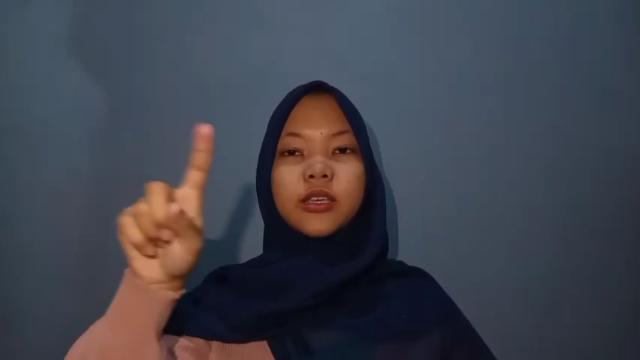Z: (113, 119, 217, 279)
